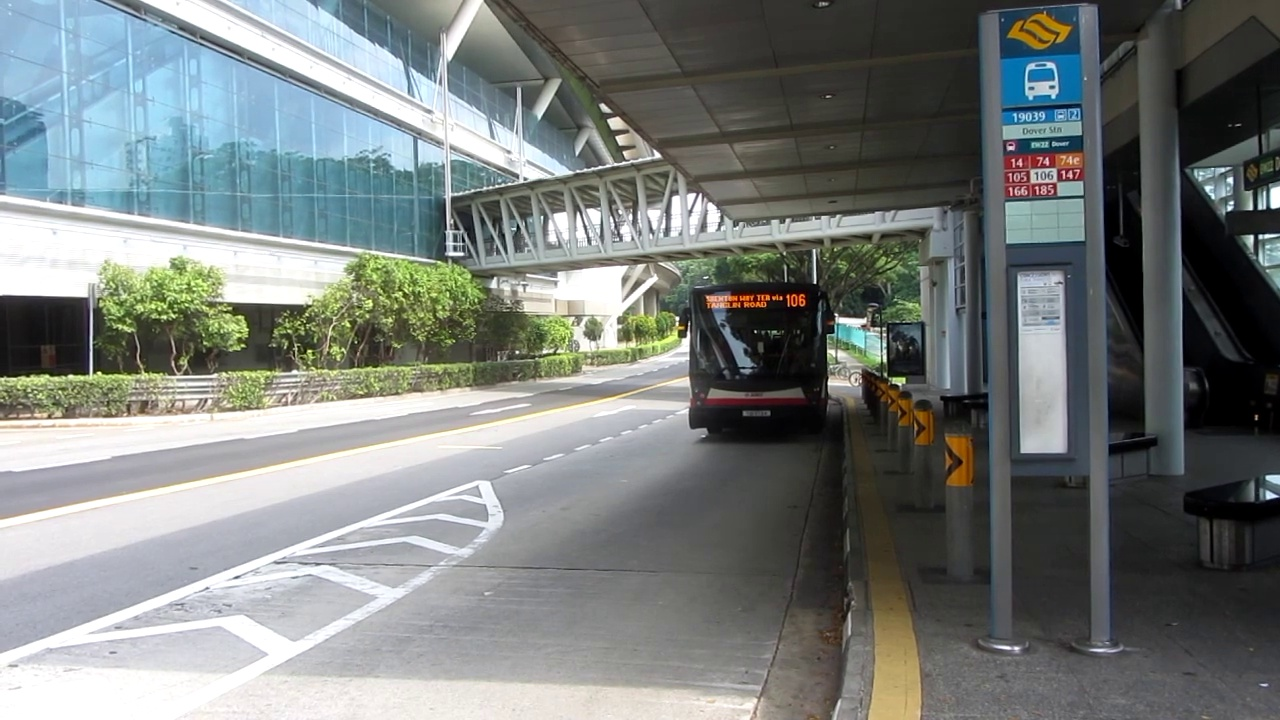bus panel: (701, 291, 811, 312)
